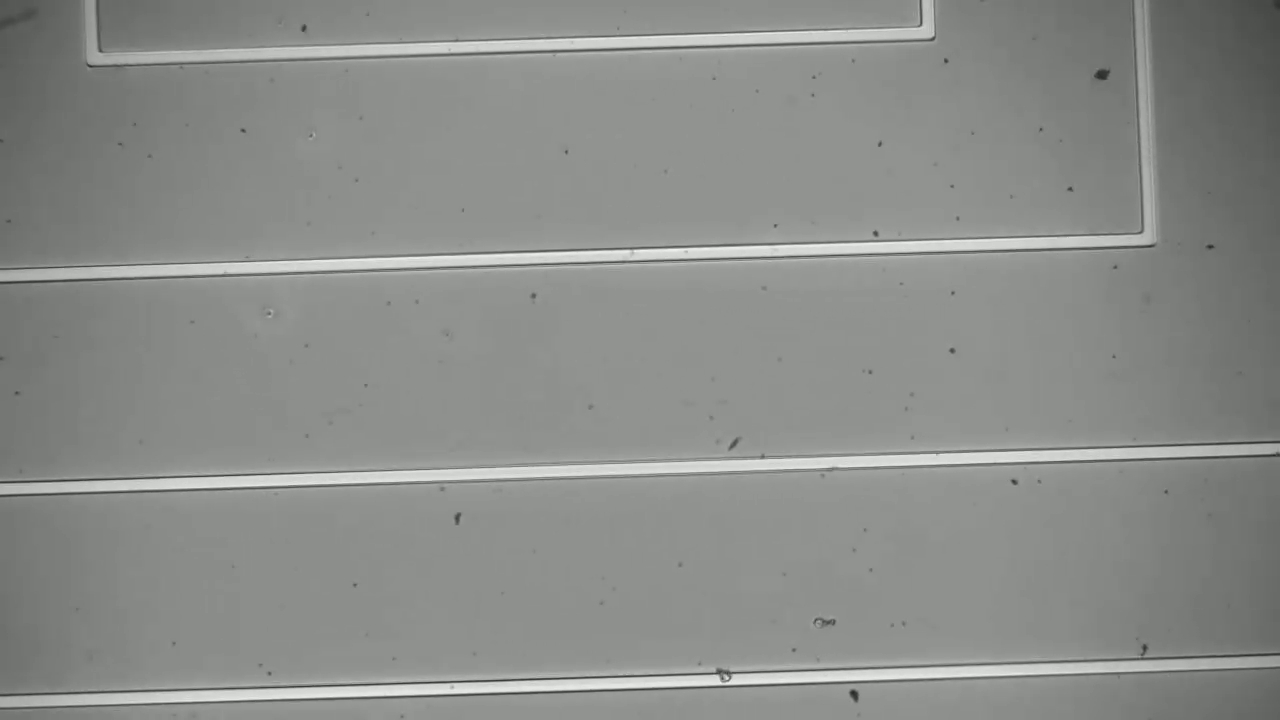stains_enbedded: (706, 662, 743, 691)
